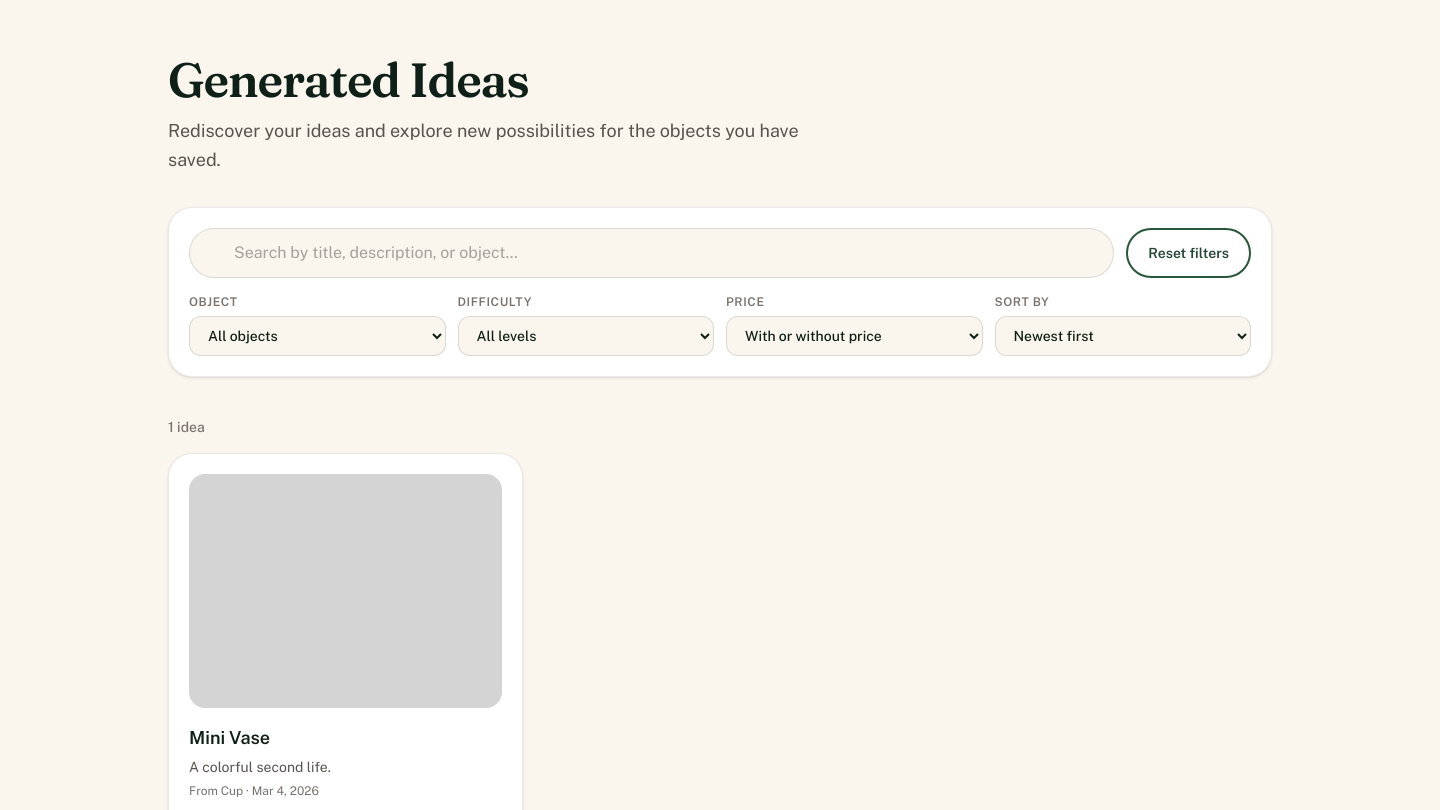
GeneratedIdeas › debounces search, resets the page, and clears from the button
The width and height of the screenshot is (1440, 810).
In the search field with id "library-search": coordinates (652, 252) [189,228,1114,278], type "vase"
Wait 300 ms
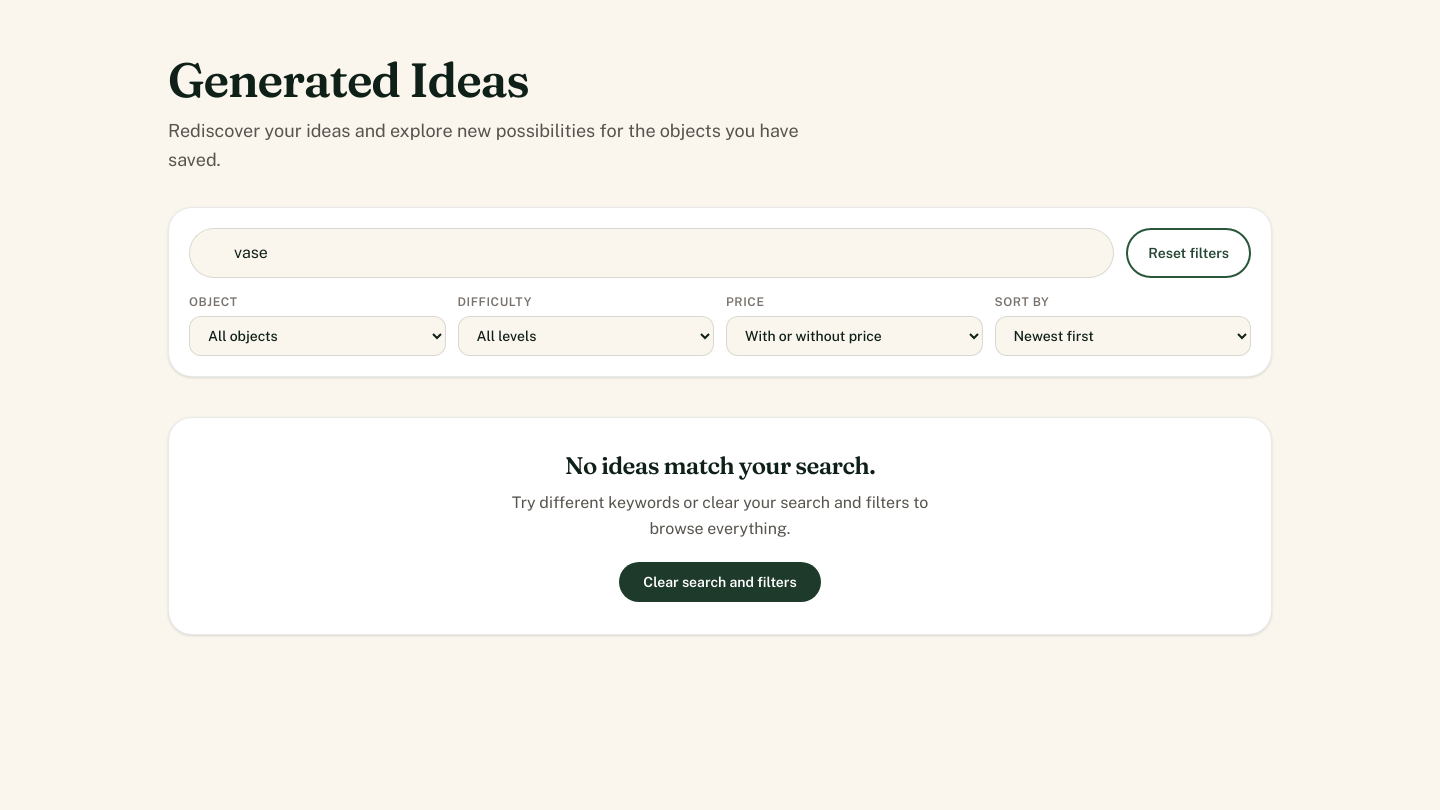
Expected: the text "No ideas match your search." is shown, [565,450,875,480]
Click the button named "Clear search": coordinates (1086, 252) [1070,236,1102,268]
(page scrolled)
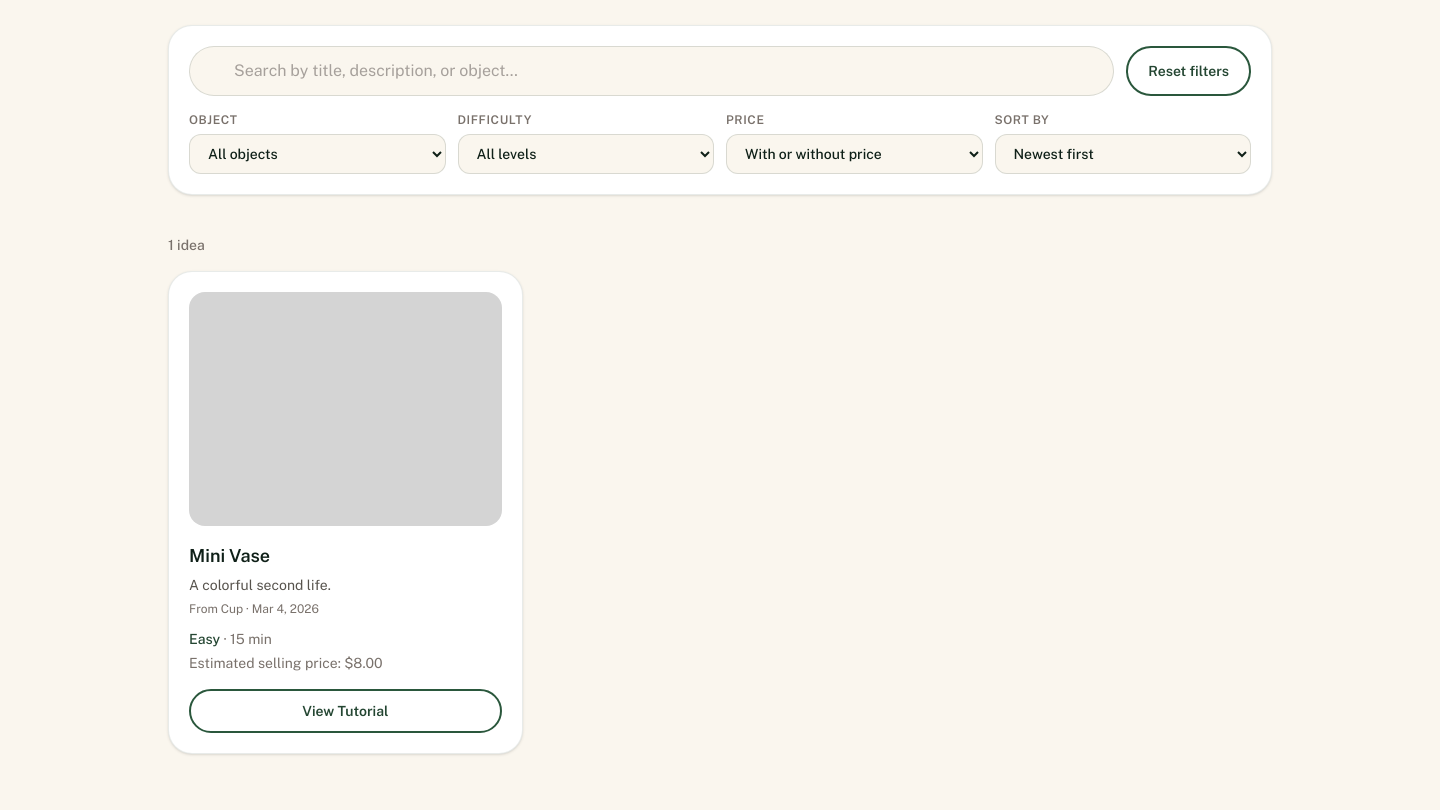
Expected: the element that starts with "Mini Vase" is shown, [168,270,523,754]
